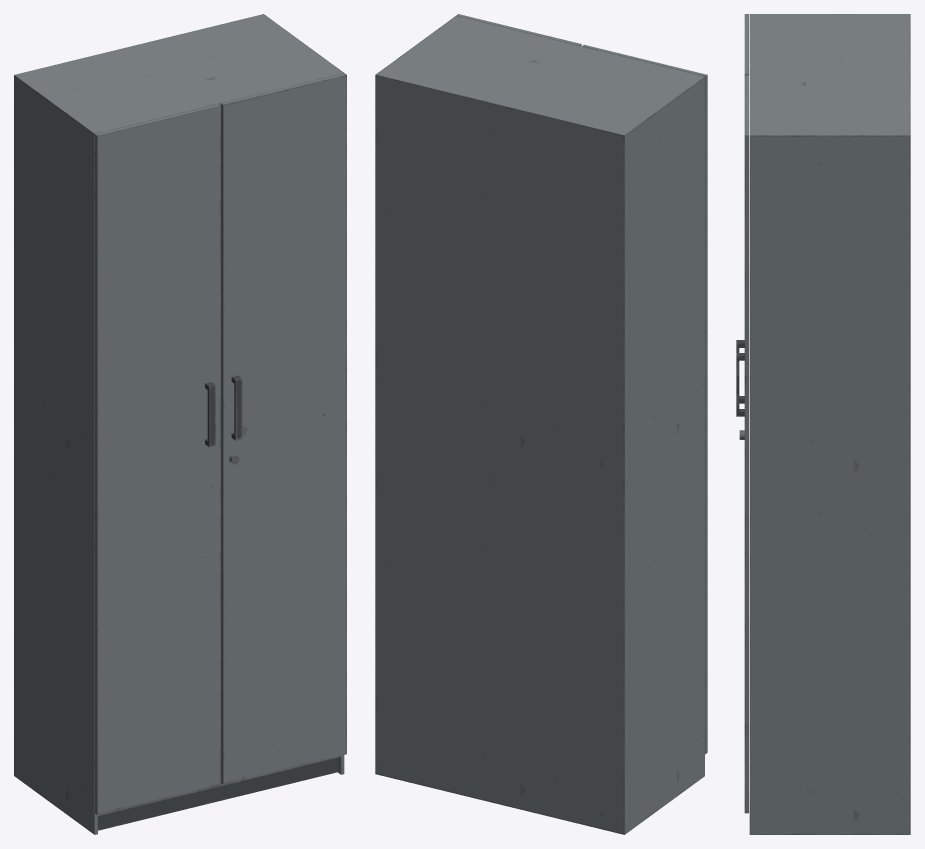
The model's file is Cabinet.fbx.
3 views of the same model, side by side, from view 1: azimuth 30°, elevation 25°; view 2: azimuth 150°, elevation 25°; view 3: azimuth 270°, elevation 25° (orthographic).
Parts seen in each view (by area): view 1: Cabinet; view 2: Cabinet; view 3: Cabinet.
Boxes of the visible parts, x1,y1,x2,y2 form: Cabinet: [14, 14, 346, 834]; Cabinet: [375, 14, 707, 834]; Cabinet: [736, 14, 910, 834].
Bounding box in the file's own units: 74.57 × 200 × 45.16.
